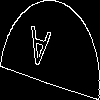A: (25, 25, 52, 78)
